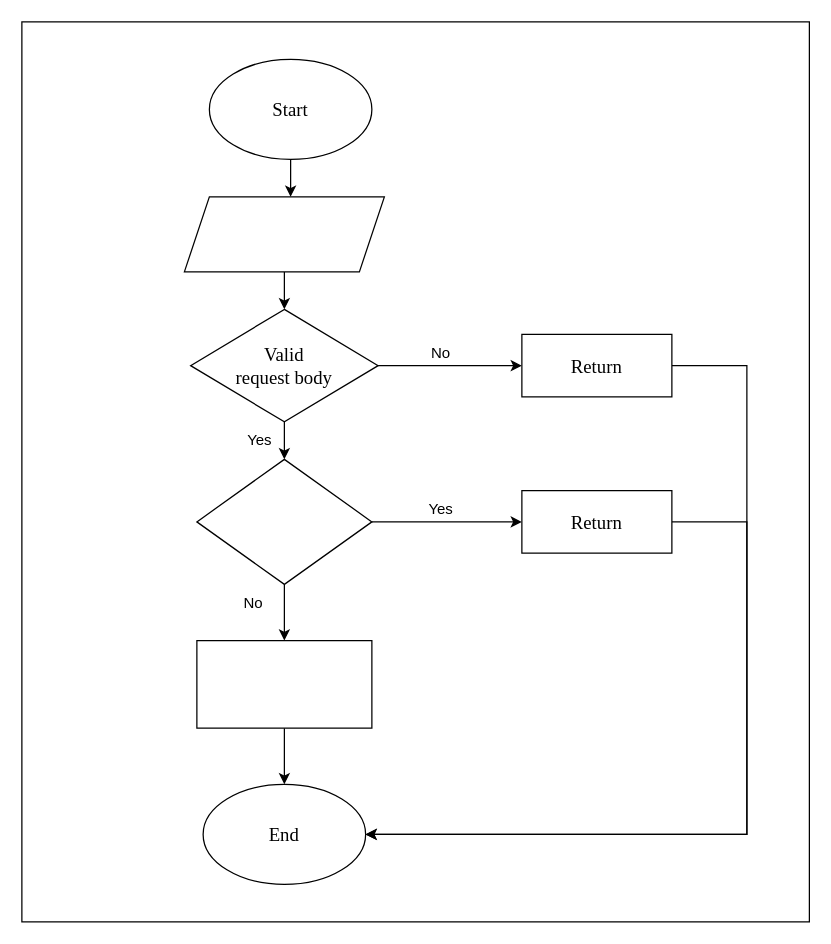
This 831x944 diagram has some shape labels left out. Here are the shapes that lost their labels. From the top down, the centre of each, then its label:
At point 283,234: "Input request Body".
At point 284,521: "Flow name already exist".
At point 284,683: "Insert data".
